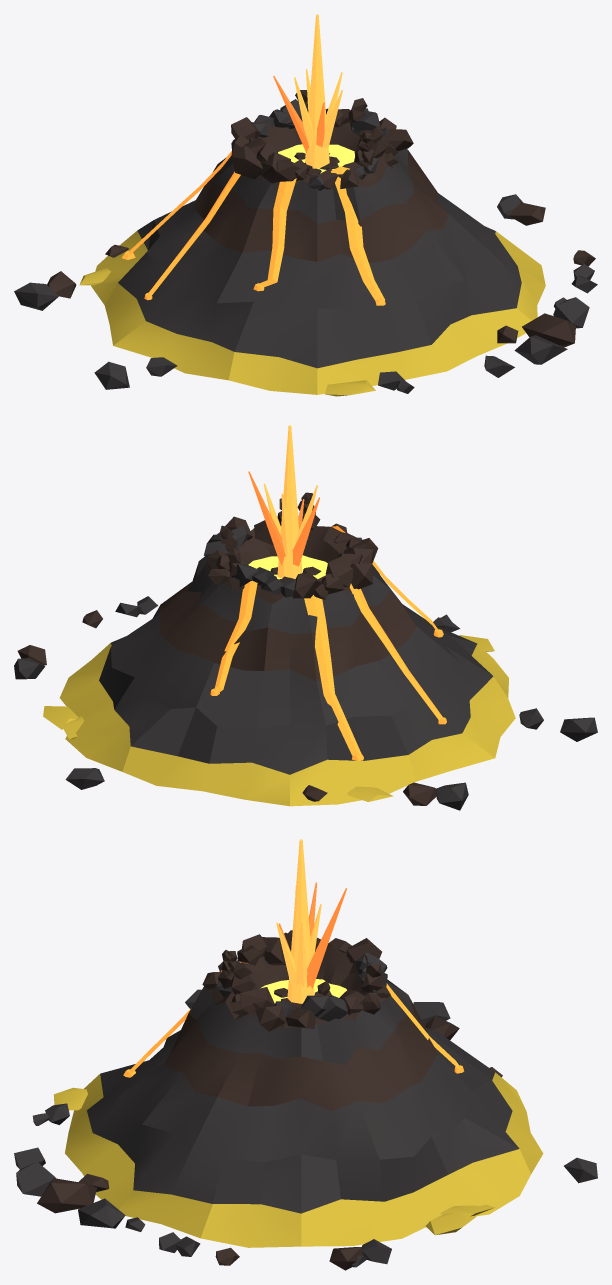
File: spatter_cone.glb
3 views of the same model, one above another, from view 1: azimuth 30°, elevation 25°; view 2: azimuth 150°, elevation 25°; view 3: azimuth 270°, elevation 25° (orthographic). The views are drawn at different scales.
Parts seen in each view (by area): view 1: spatter_cone; view 2: spatter_cone; view 3: spatter_cone.
Part boxes in pixels (box(x1,y1,x2,y2)): spatter_cone: box(14, 14, 597, 396); spatter_cone: box(14, 425, 597, 810); spatter_cone: box(14, 839, 597, 1270).
Size of the model in its own units: 24.54 by 12.96 by 22.63.
